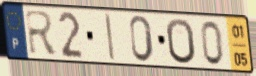0: (128, 14, 155, 64), (198, 18, 225, 68)
2: (56, 10, 87, 61)
I: (103, 12, 117, 63)
O: (164, 17, 198, 66)
R: (23, 8, 60, 57)
